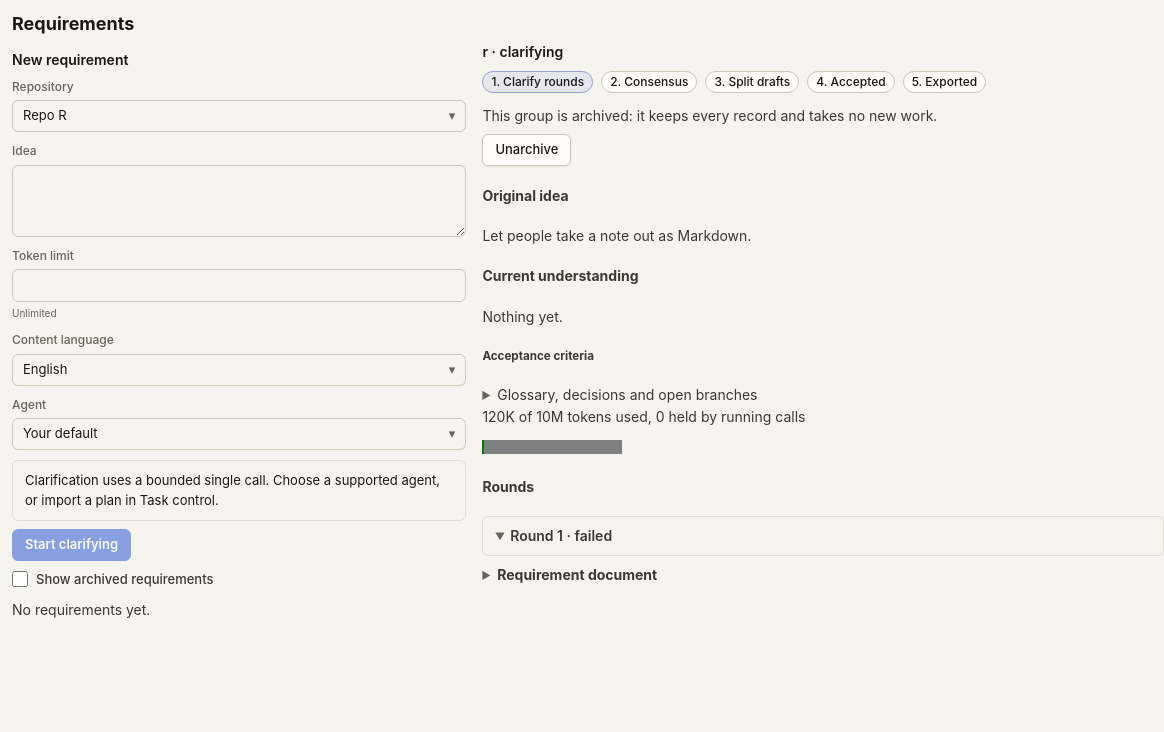
Scenario: feedback requirement affordances › hides archived requirements from the list until explicitly included
This screenshot has width=1164, height=732.
Click the checkbox labelled "Show archived requirements": (20, 579) [12, 571, 28, 587]
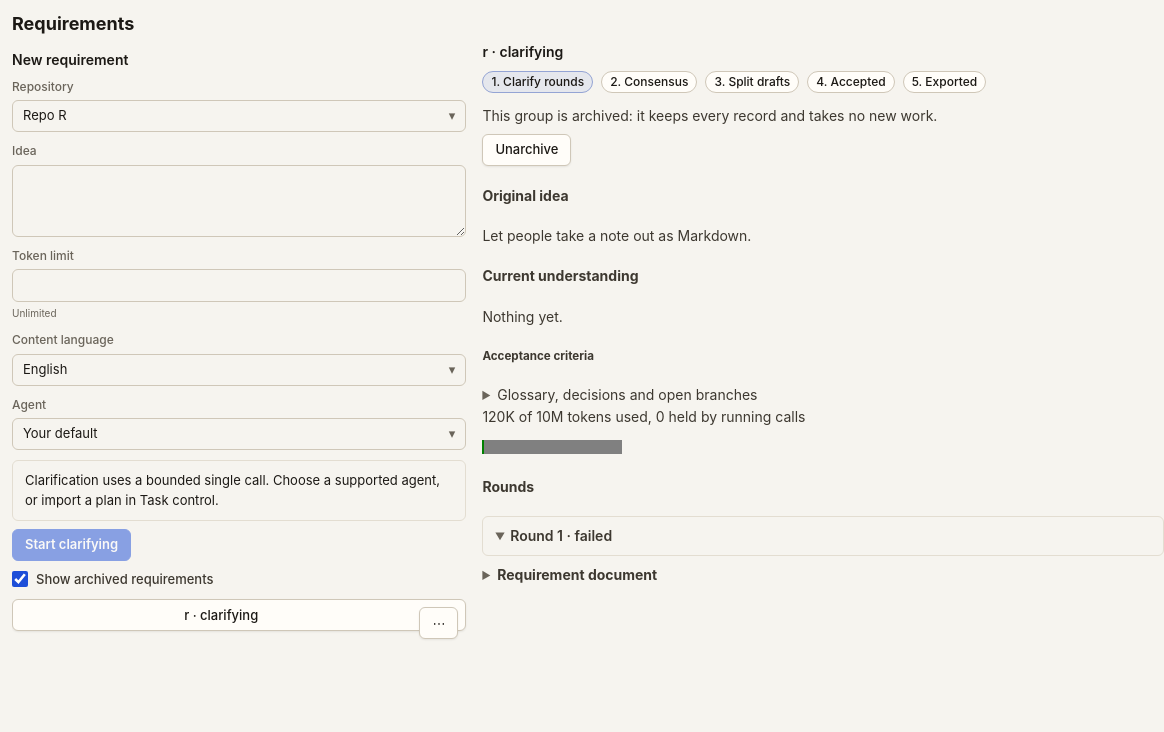
Expected: the button "r · clarifying" is shown, [12, 599, 466, 631]
